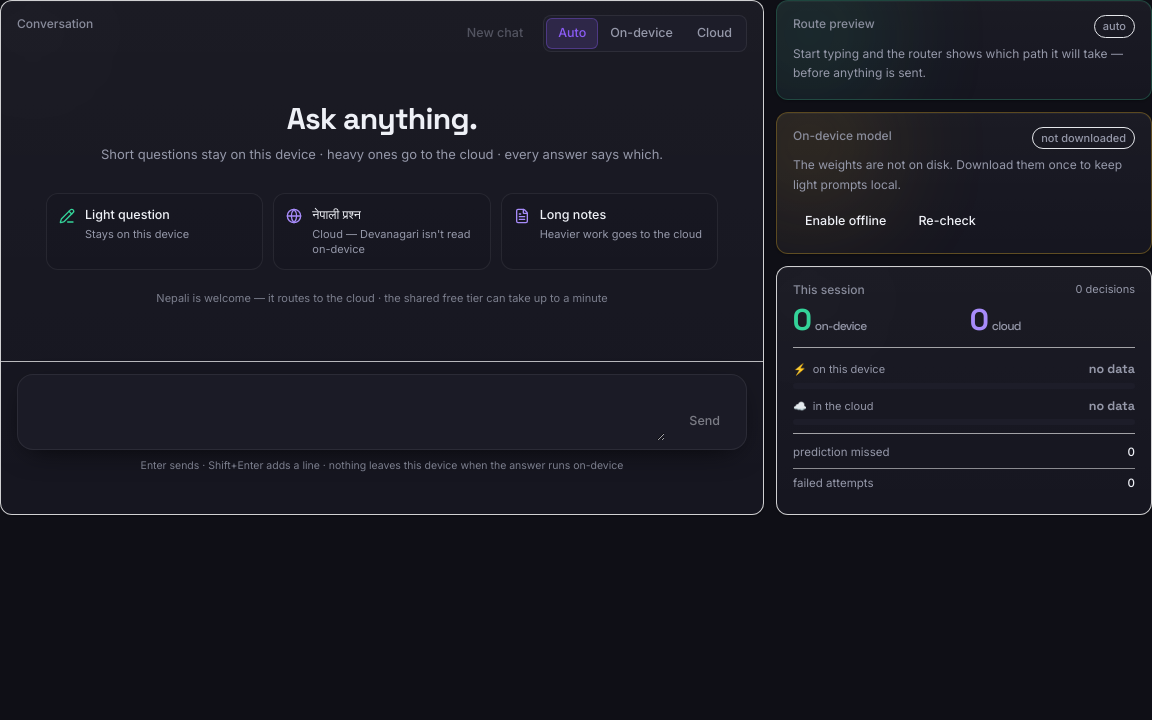
Test: AskPage automatic retry on capacity › retries by itself when the free tier is rate-limiting, and says so
This screenshot has width=1152, height=720.
In the text box named "Your question": (346, 412) x1=26 y1=383 x2=665 y2=441, type "Will you retry?"
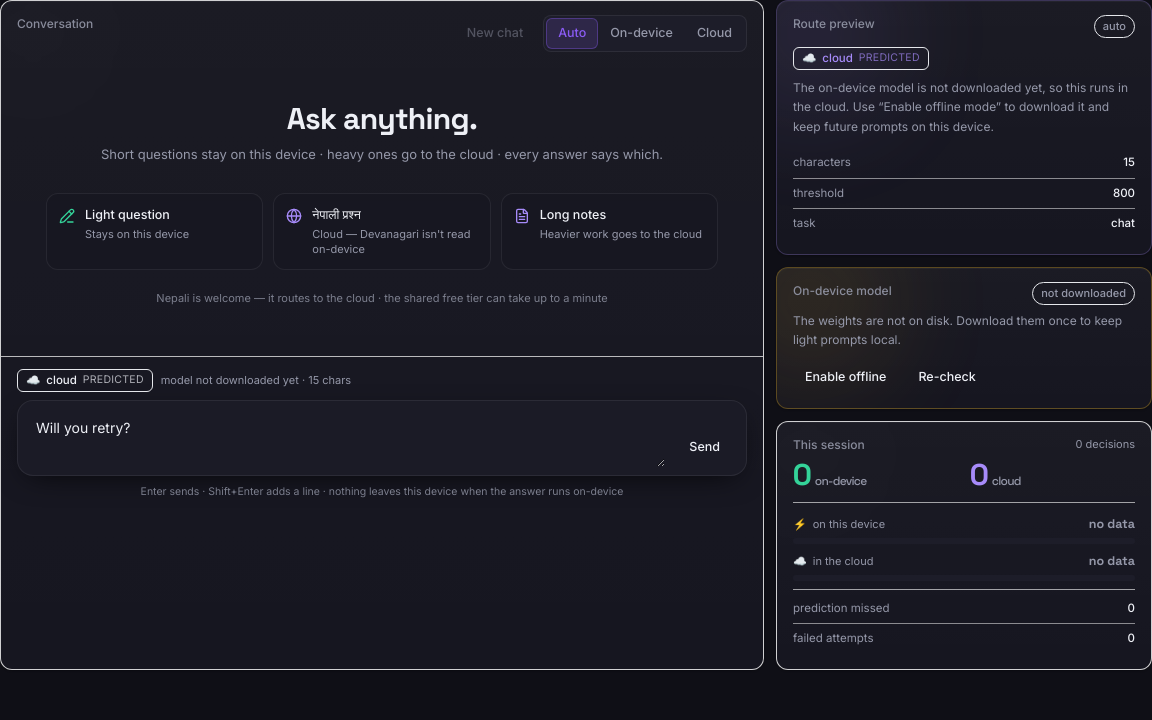
Click the button "Send": (705, 447) x1=673 y1=429 x2=736 y2=465
Wait 21000 ms
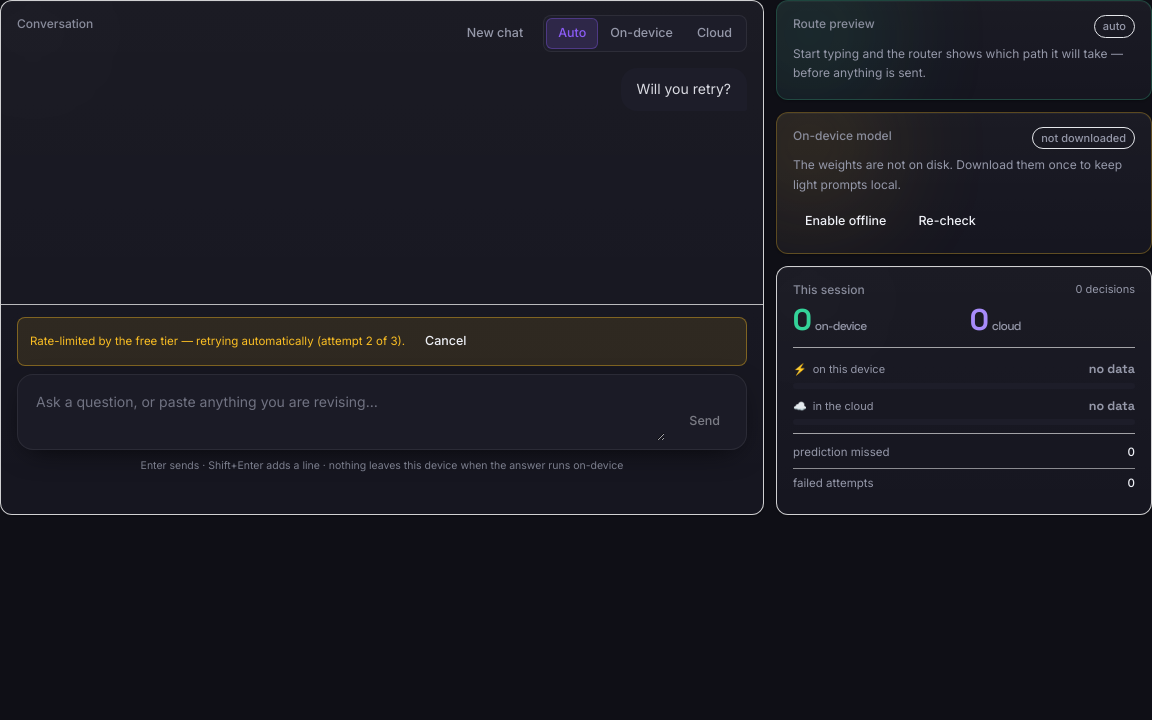
Now the text "retrying automatically" is shown, box x1=30 y1=334 x2=366 y2=348
